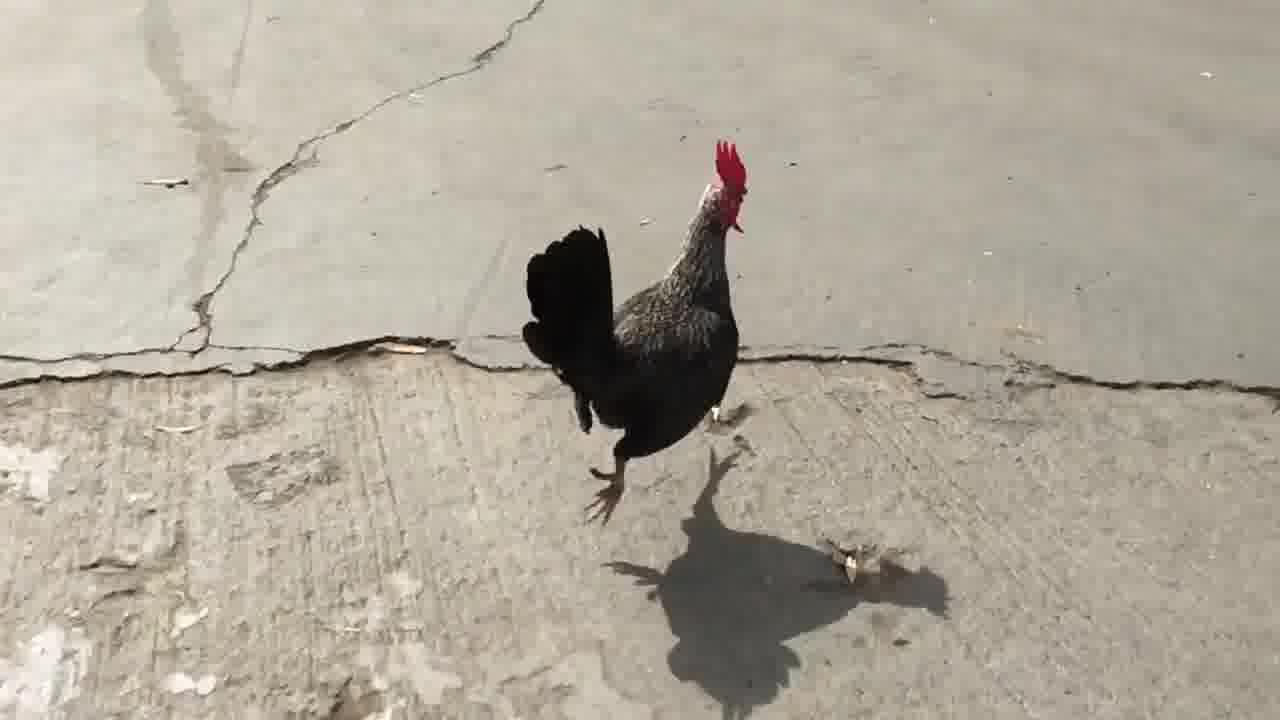Normal: (526, 136, 818, 512)
